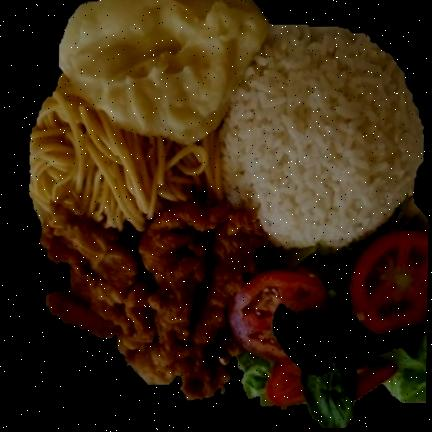rice: (221, 33, 422, 247)
